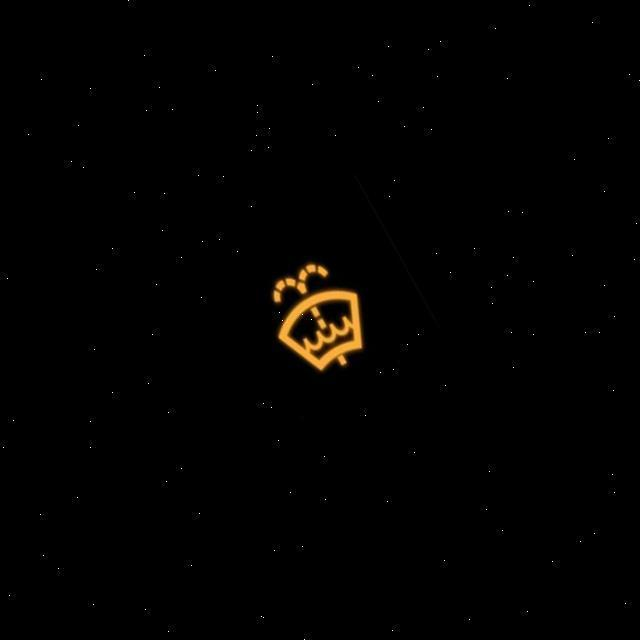Washer Fluid: (270, 261, 362, 370)
